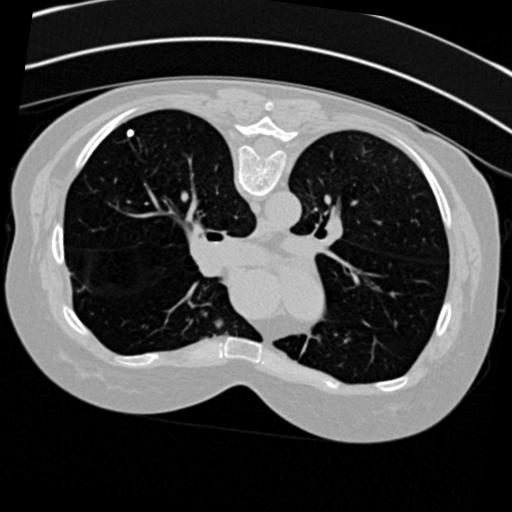nodule: (122, 126, 137, 141)
